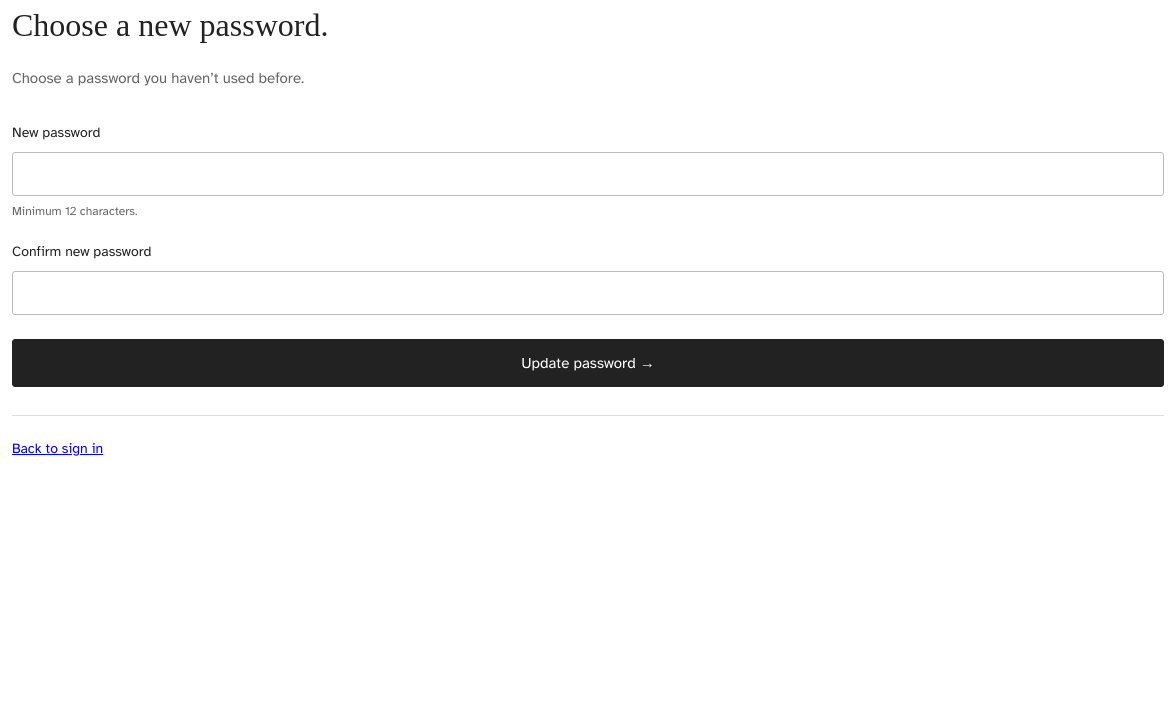
Test: Password reset › validates confirmation then resets without automatically signing in
Type "a-new-secure-password" into the password field labelled "New password".
click(588, 174); type("a-new-secure-password")  # box x1=12 y1=152 x2=1164 y2=196
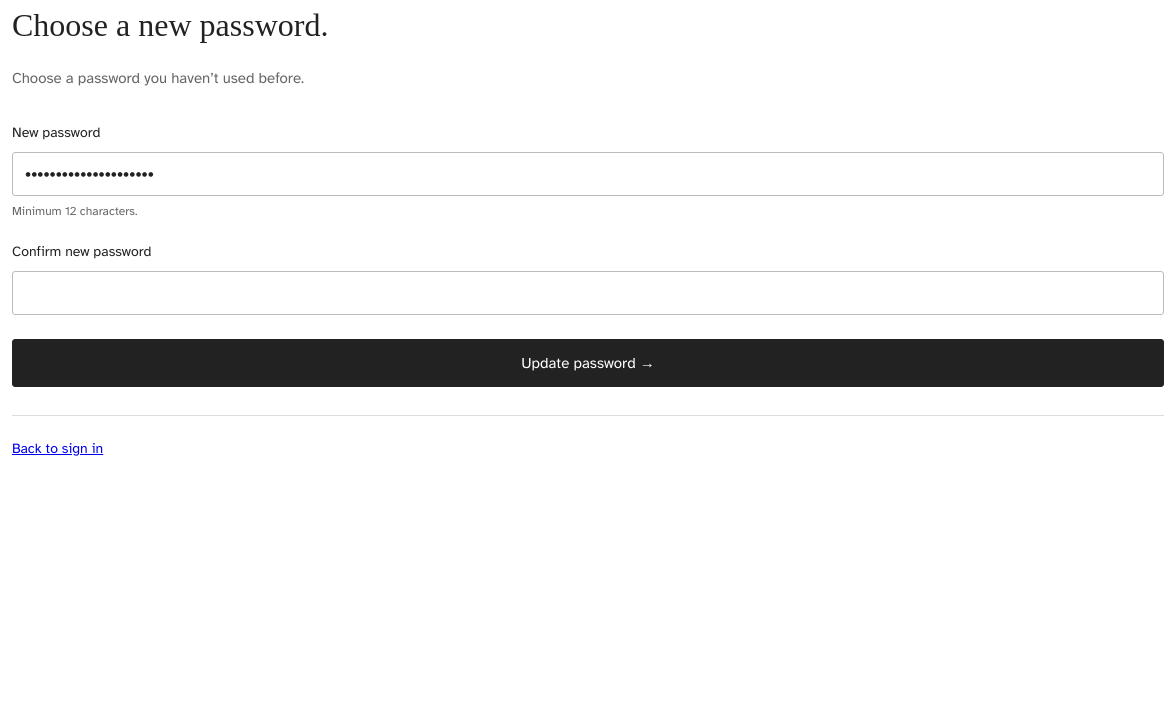
Type "different-password" into the password field labelled "Confirm new password".
click(588, 293); type("different-password")  # box x1=12 y1=270 x2=1164 y2=315
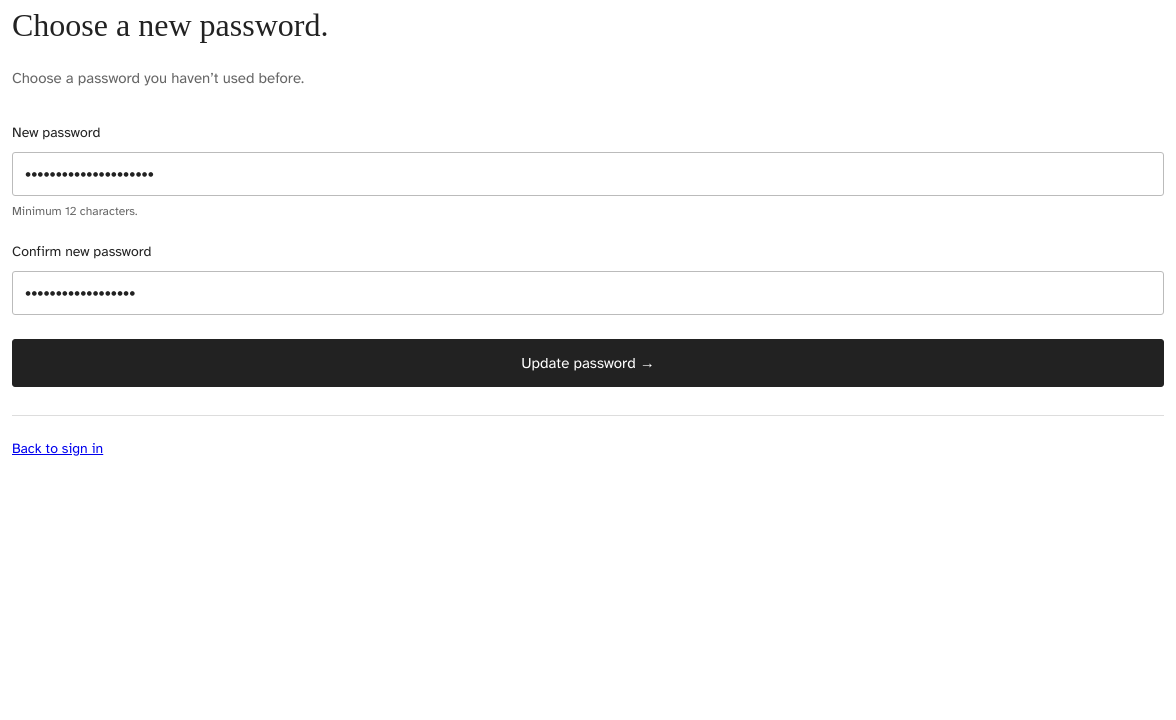
Click the button "Update password →".
click(588, 363)  # box x1=12 y1=339 x2=1164 y2=387
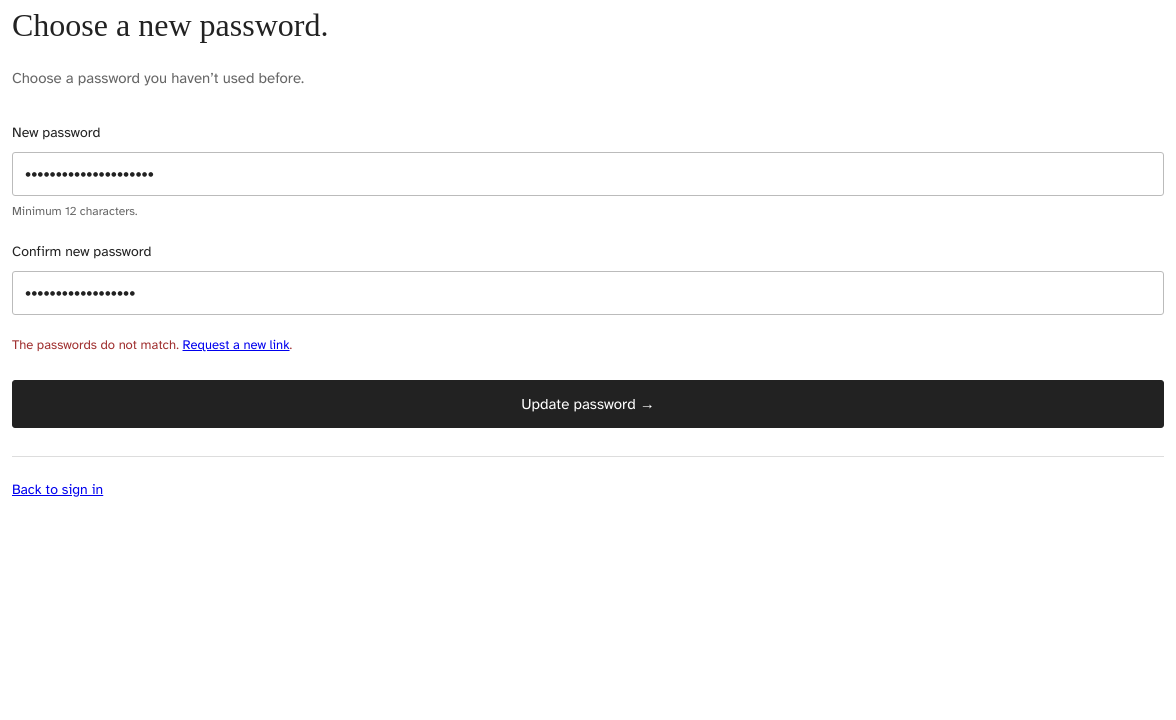
Expected: the message shows "do not match", x1=12 y1=337 x2=179 y2=353
Type "a-new-secure-password" into the password field labelled "Confirm new password".
click(588, 293); type("a-new-secure-password")  # box x1=12 y1=270 x2=1164 y2=315
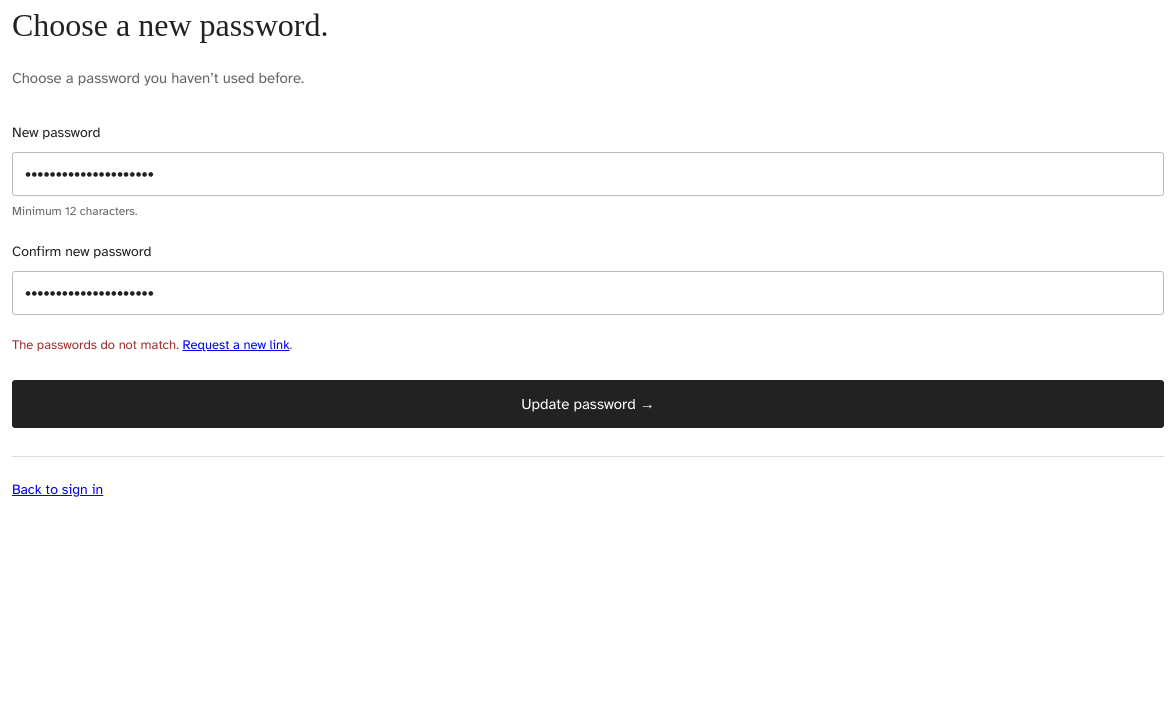
Click the button "Update password →".
click(588, 404)  # box x1=12 y1=380 x2=1164 y2=428
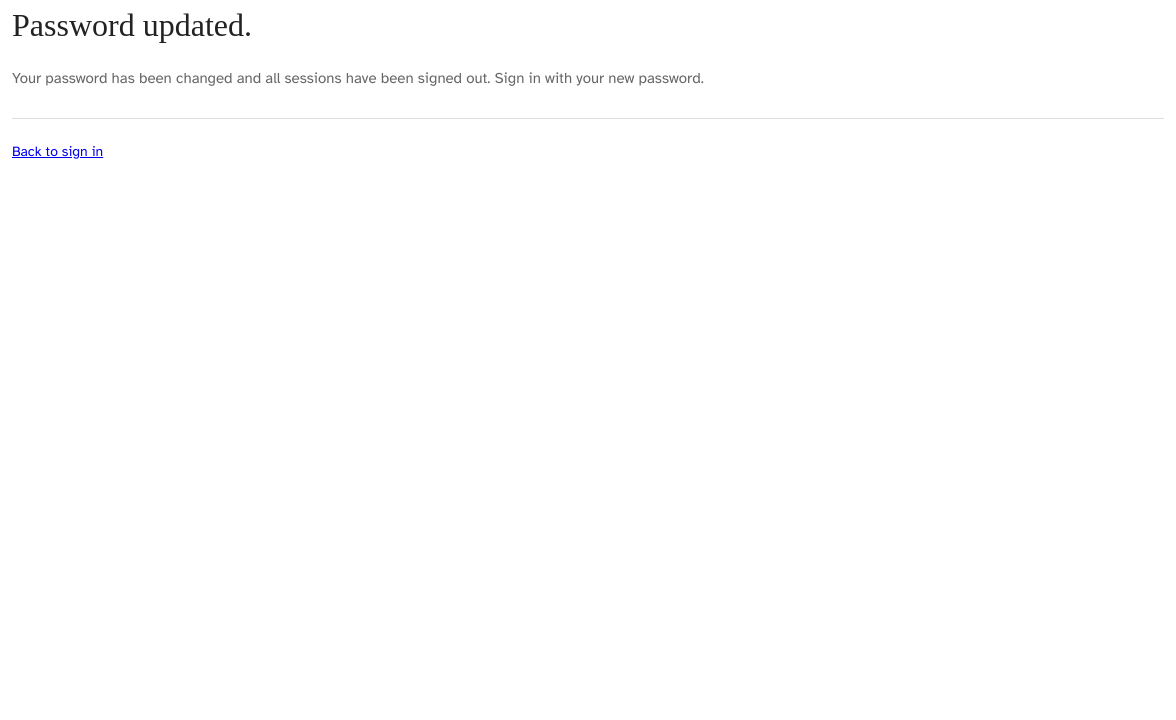
Expected: the message shows "all sessions have been signed out", x1=12 y1=69 x2=704 y2=87
